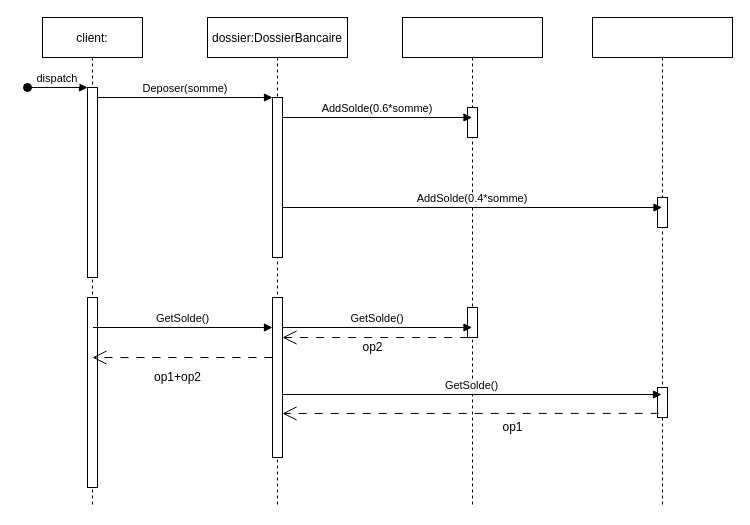
This 750x525 diagram has some shape labels left out. The box of each missing label's shape, as (x1, y1, x2, y2) in pixels:
cc:comptecourant: (402, 16, 542, 508)
ce:compteepargne: (592, 16, 732, 508)
